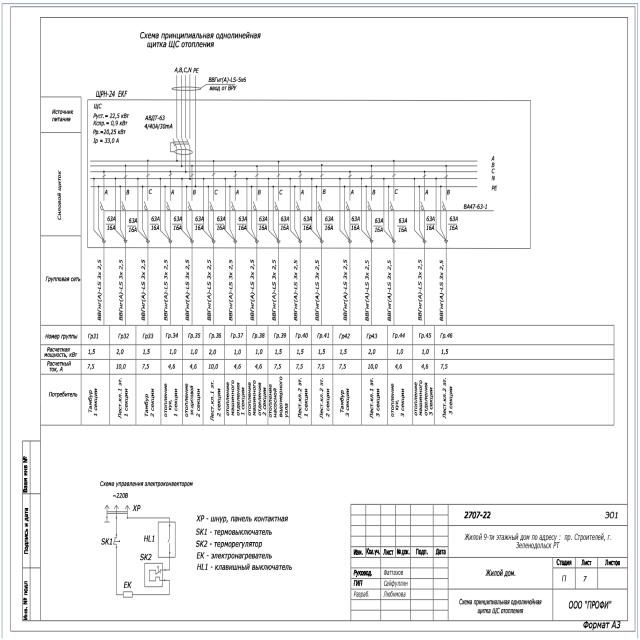-: (143, 112, 173, 133), (96, 90, 130, 100), (128, 216, 138, 234), (374, 216, 384, 234), (216, 215, 226, 233), (350, 214, 360, 232), (324, 215, 334, 233), (106, 213, 116, 231), (278, 215, 288, 233), (236, 215, 246, 232), (150, 215, 160, 232), (398, 217, 408, 234), (448, 215, 458, 232), (258, 215, 268, 232), (302, 215, 312, 232), (174, 215, 184, 232), (426, 216, 436, 233), (194, 215, 204, 232)
QF: (419, 172, 427, 212), (388, 172, 396, 212), (366, 173, 374, 213), (344, 173, 352, 213), (316, 173, 324, 213), (294, 173, 302, 213), (273, 174, 281, 214), (252, 172, 260, 212), (230, 174, 238, 214), (208, 172, 216, 212), (165, 172, 173, 212), (142, 172, 150, 212), (120, 174, 128, 214), (99, 172, 107, 212), (441, 174, 448, 214), (187, 171, 194, 211)
QFD: (168, 136, 194, 156)
